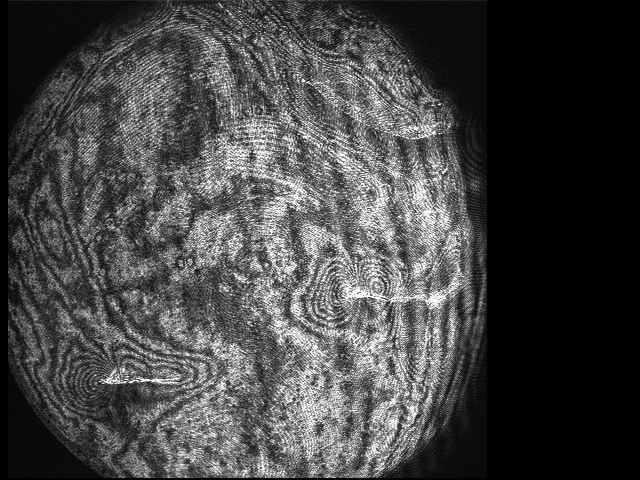plume: (48, 342, 206, 421), (289, 257, 408, 339)
